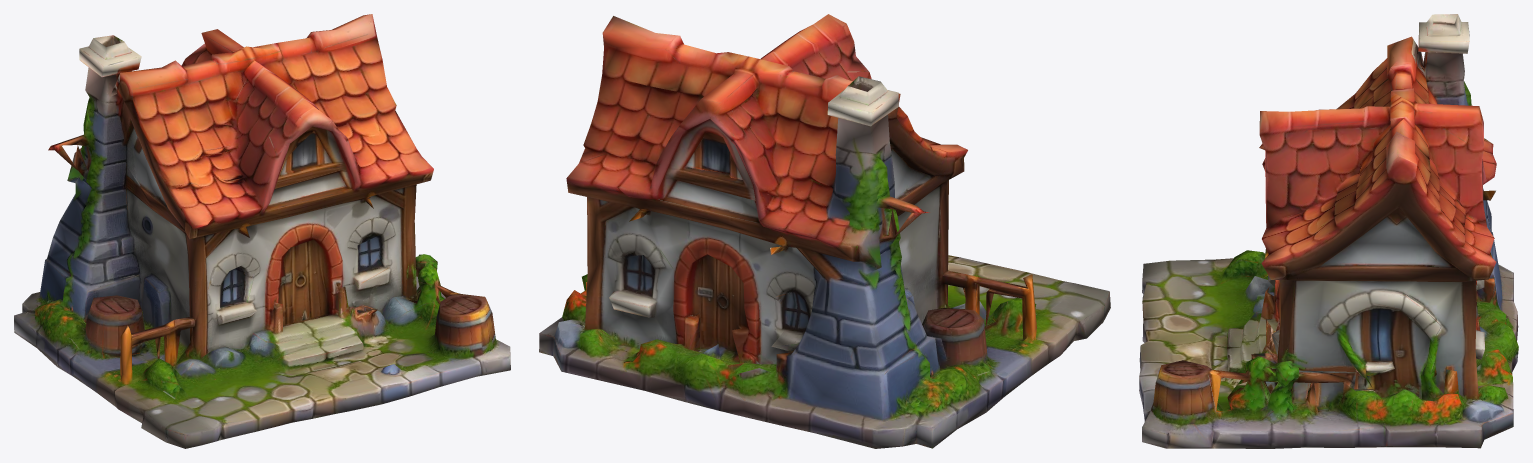
Rendered from cottage.glb.
3 renders of one model, left to right at view 1: azimuth 30°, elevation 25°; view 2: azimuth 150°, elevation 25°; view 3: azimuth 270°, elevation 25°, orthographic. The views are drawn at different scales.
Parts seen in each view (by area): view 1: Mesh1.0; view 2: Mesh1.0; view 3: Mesh1.0.
Part boxes in pixels (left/top/right/bottom): Mesh1.0: left=14, top=14, right=510, bottom=448; Mesh1.0: left=539, top=14, right=1110, bottom=448; Mesh1.0: left=1139, top=14, right=1518, bottom=448.
Bounding box in the file's own units: 2.01 × 1.58 × 1.82.
1 material, 1 textured.
